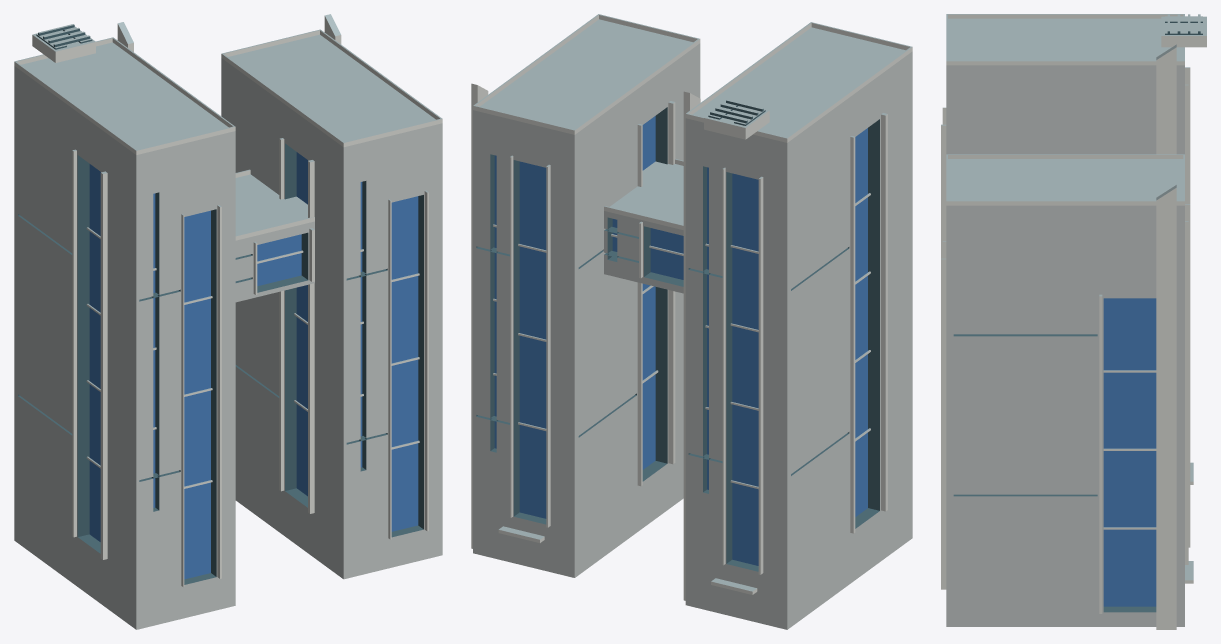
File: 08_Brueckenhaus.obj
3 renders of one model, left to right at view 1: azimuth 30°, elevation 25°; view 2: azimuth 150°, elevation 25°; view 3: azimuth 270°, elevation 25°, orthographic. The views are drawn at different scales.
Bounding box in the file's own units: 0.6688 × 1 × 0.4978.
